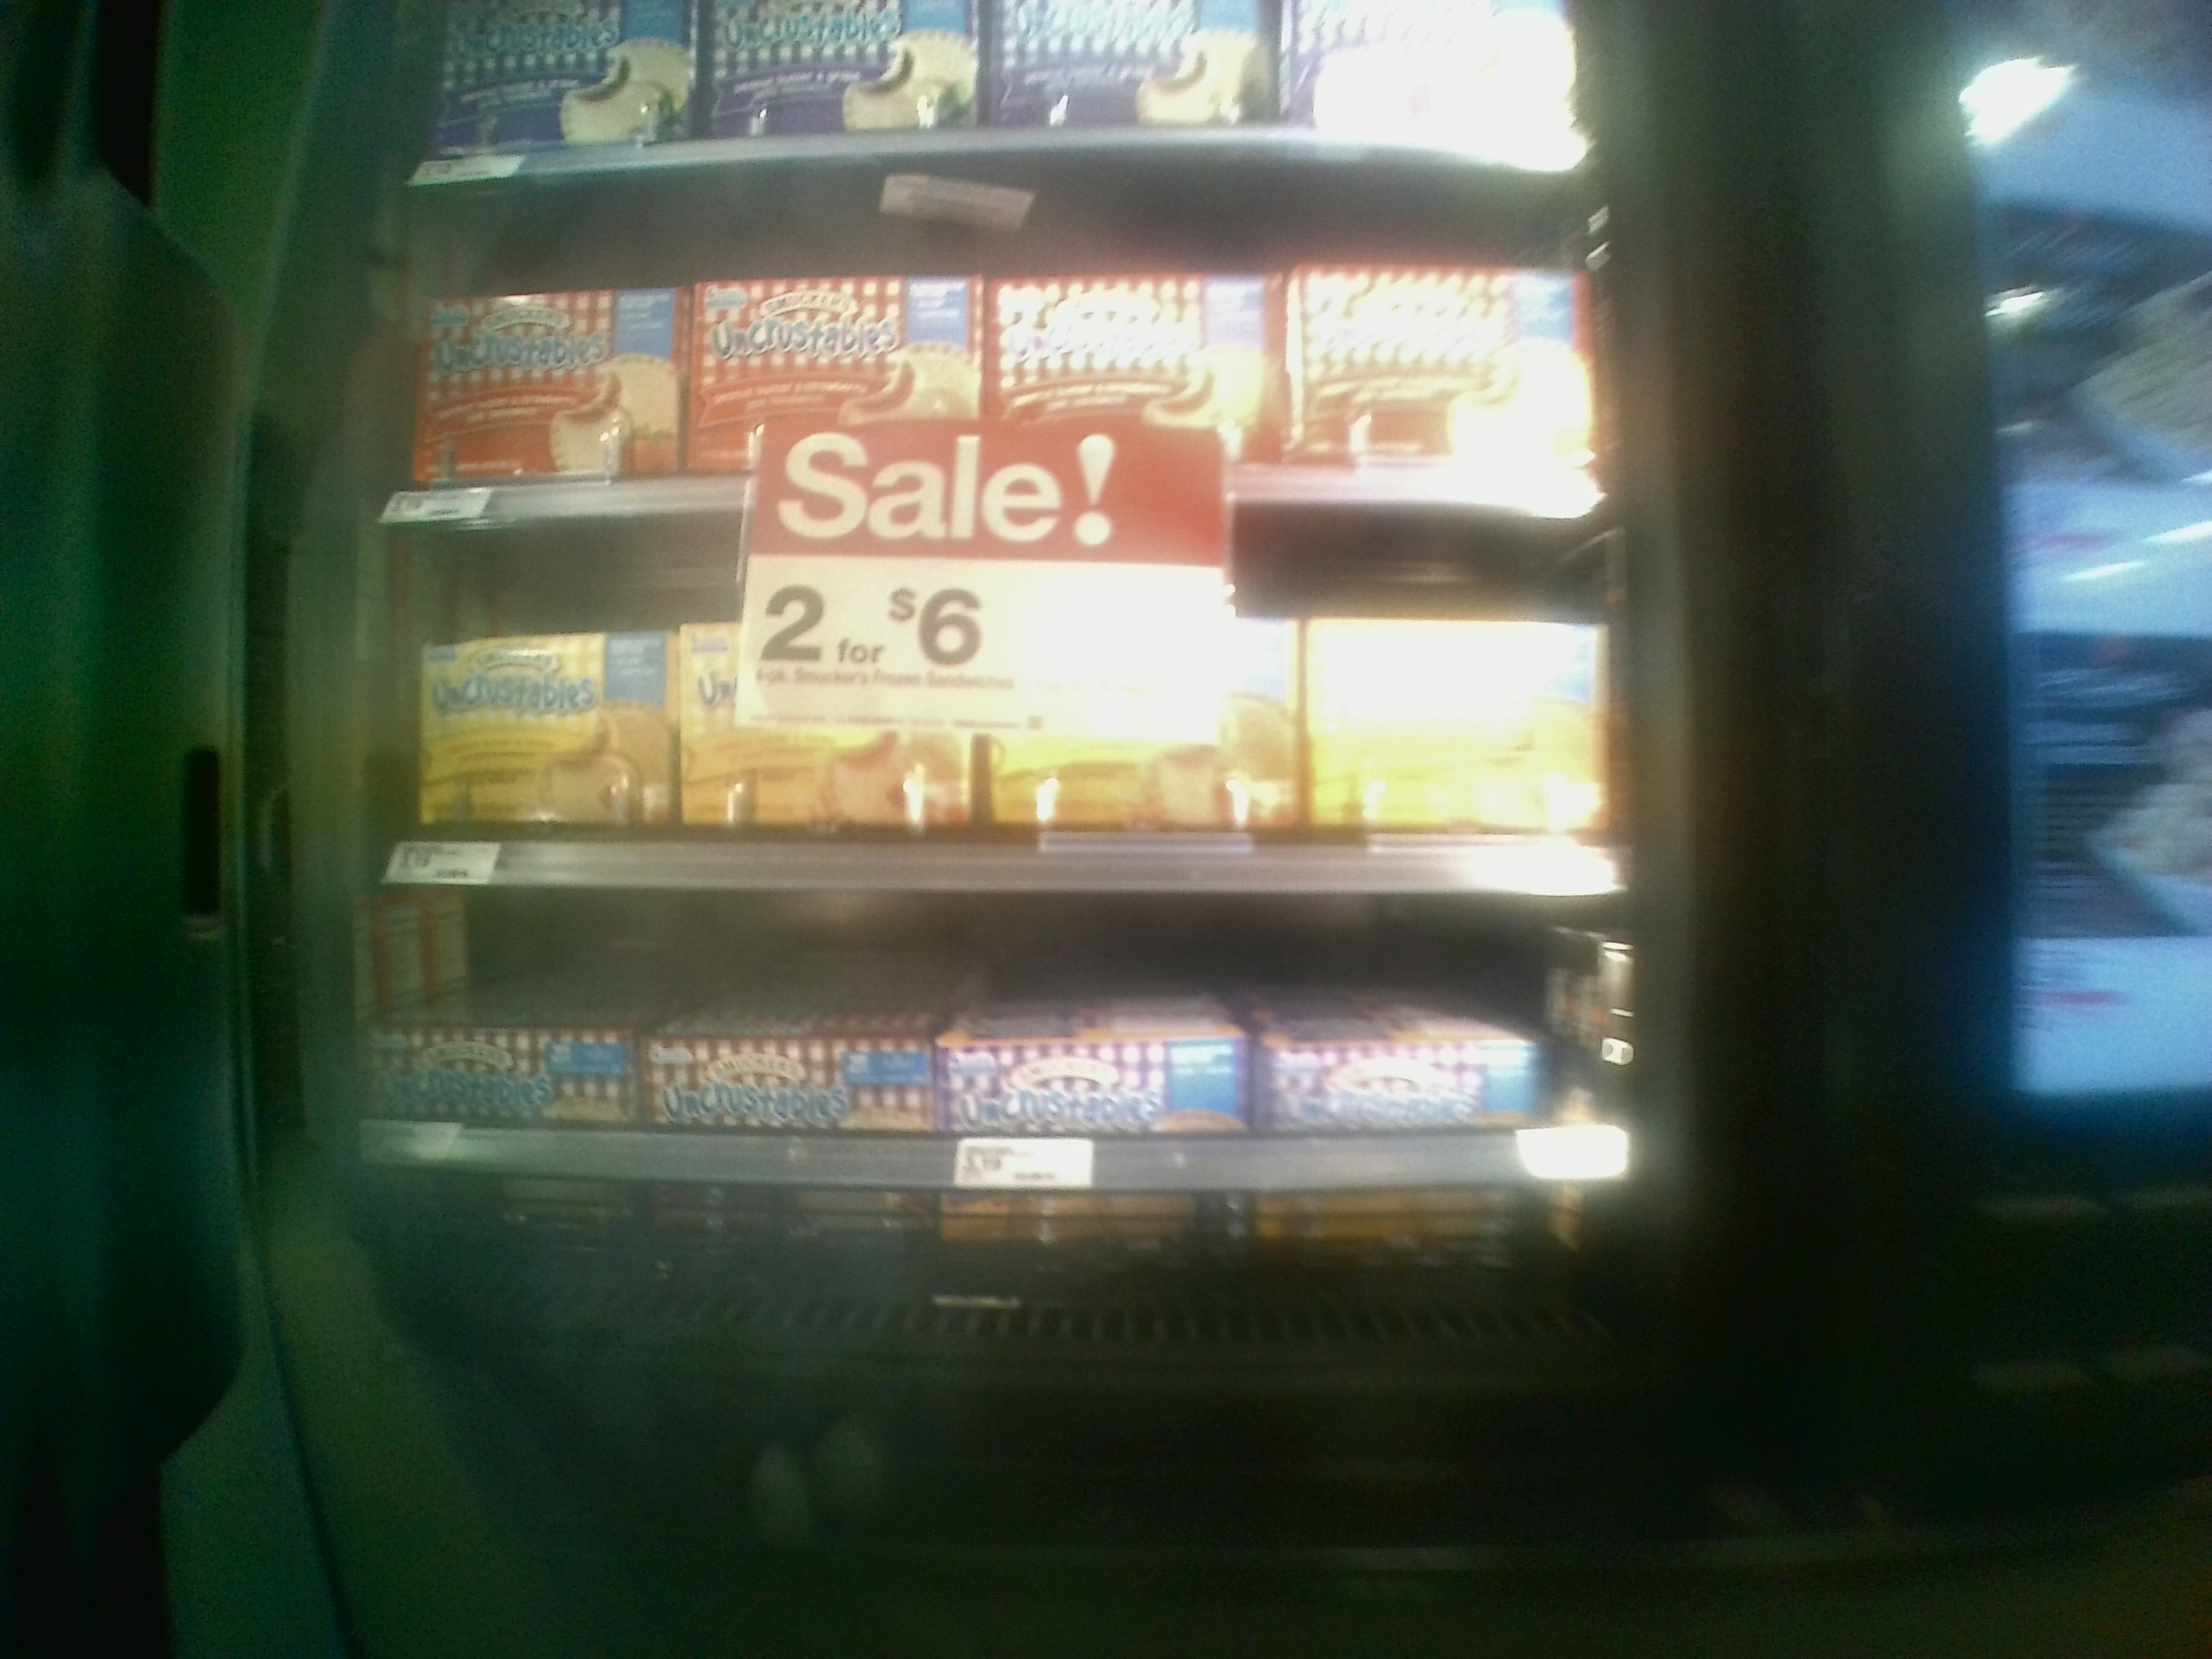shelf: (345, 863, 1649, 1326), (355, 509, 1635, 911), (369, 185, 1630, 519)
